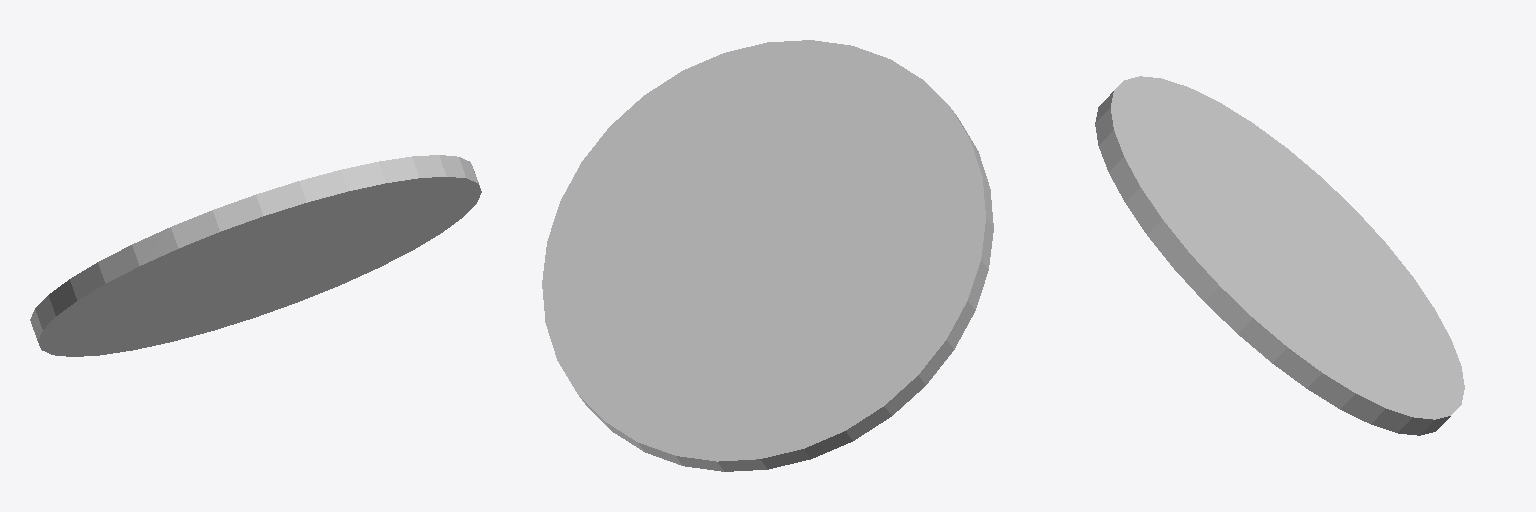
Rendered from EngineBody12.obj.
The picture shows the model from 3 angles: view 1: azimuth 30°, elevation 25°; view 2: azimuth 150°, elevation 25°; view 3: azimuth 270°, elevation 25°; orthographic projection.
Parts seen in each view (by area): view 1: EngineBody3(Button)_Cylinder.027; view 2: EngineBody3(Button)_Cylinder.027; view 3: EngineBody3(Button)_Cylinder.027.
Boxes of the visible parts, box(x1,y1,x2,y2) form: EngineBody3(Button)_Cylinder.027: box(30, 155, 481, 356); EngineBody3(Button)_Cylinder.027: box(542, 40, 993, 471); EngineBody3(Button)_Cylinder.027: box(1095, 76, 1464, 435).
Size of the model in its own units: 0.02 by 0.0139 by 0.0157.